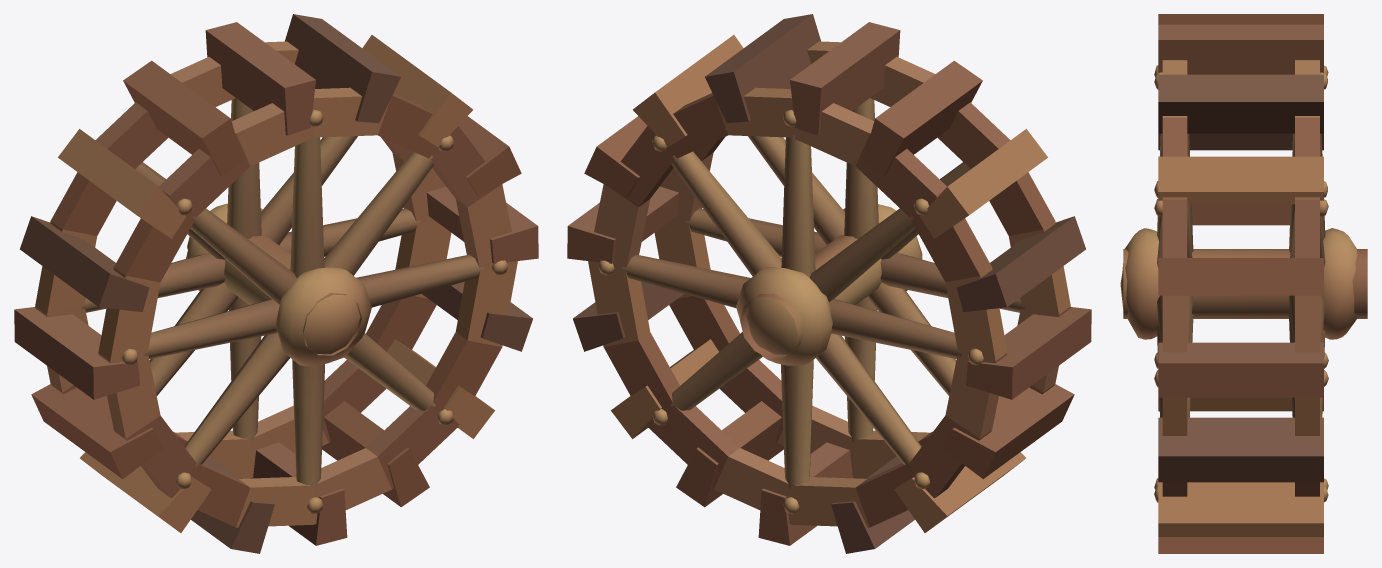
Rendered from copper_millwheel.glb.
3 renders of one model, left to right at view 1: azimuth 30°, elevation 25°; view 2: azimuth 150°, elevation 25°; view 3: azimuth 270°, elevation 25°, orthographic. The views are drawn at different scales.
Visible parts, largest first — view 1: copper_millwheel; view 2: copper_millwheel; view 3: copper_millwheel.
Boxes of the visible parts, box(x1,y1,x2,y2) form: copper_millwheel: box(14, 14, 538, 553); copper_millwheel: box(567, 14, 1091, 553); copper_millwheel: box(1120, 14, 1367, 553).
Bounding box in the file's own units: 2.6 × 2.6 × 1.19.
